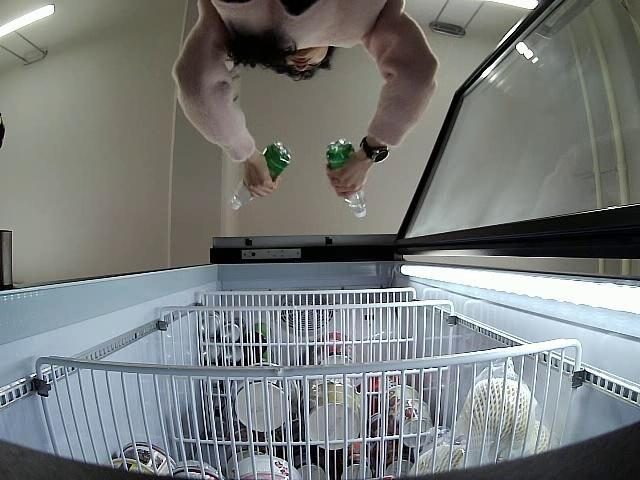18_trevi: (228, 140, 294, 216), (325, 137, 368, 222)
